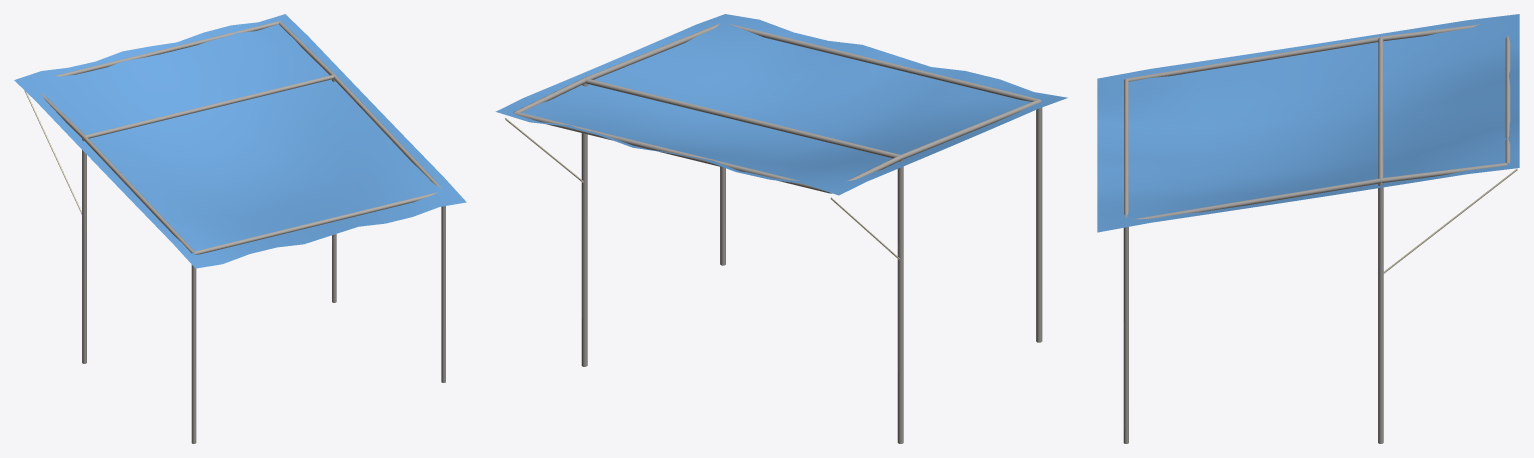
The model's file is carpa_panza.glb.
The picture shows the model from 3 angles, left to right: view 1: azimuth 30°, elevation 25°; view 2: azimuth 150°, elevation 25°; view 3: azimuth 270°, elevation 25°; orthographic projection. The views are drawn at different scales.
Parts seen in each view (by area): view 1: carpa_panza_lona, carpa_panza_tubos; view 2: carpa_panza_lona, carpa_panza_tubos; view 3: carpa_panza_lona, carpa_panza_tubos.
Boxes of the visible parts, x1,y1,x2,y2 form: carpa_panza_lona: (14,14,466,268); carpa_panza_tubos: (41,21,445,443); carpa_panza_lona: (495,14,1067,195); carpa_panza_tubos: (513,23,1042,443); carpa_panza_lona: (1097,14,1519,232); carpa_panza_tubos: (1123,24,1510,443).
Bounding box in the file's own units: 3.15 × 2.71 × 3.65.
